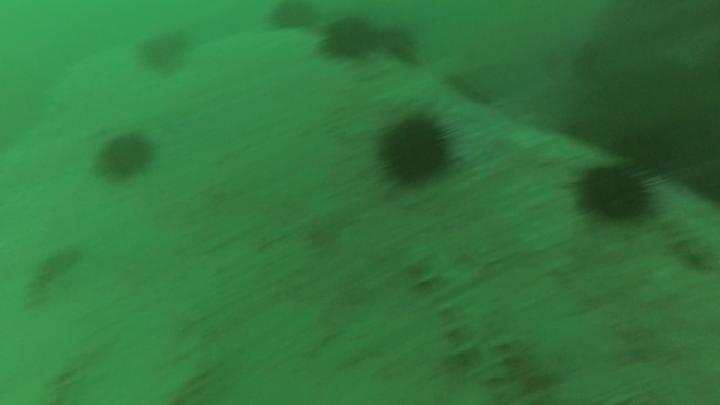echinus: (383, 119, 446, 182), (581, 166, 647, 218), (98, 137, 150, 182), (324, 20, 372, 63), (618, 136, 670, 174), (273, 1, 316, 33), (139, 38, 179, 71)
holothurian: (410, 253, 506, 382), (656, 209, 720, 274)
